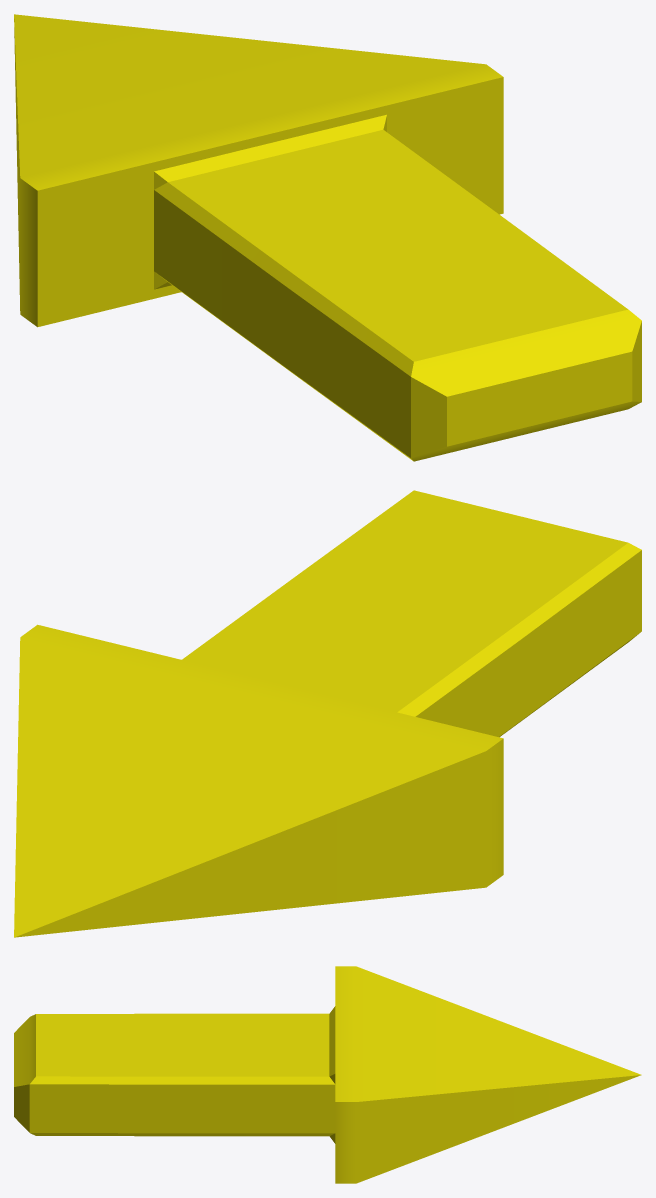
The model's file is arrow.fbx.
The picture shows the model from 3 angles, top to bottom: view 1: azimuth 30°, elevation 25°; view 2: azimuth 150°, elevation 25°; view 3: azimuth 270°, elevation 25°; orthographic projection. The views are drawn at different scales.
Visible parts, largest first — view 1: pCube1; view 2: pCube1; view 3: pCube1.
Part boxes in pixels (box(x1,y1,x2,y2)): pCube1: box(14, 14, 641, 461); pCube1: box(14, 490, 641, 937); pCube1: box(14, 966, 641, 1183).
Size of the model in its own units: 2 by 0.56 by 3.91.
